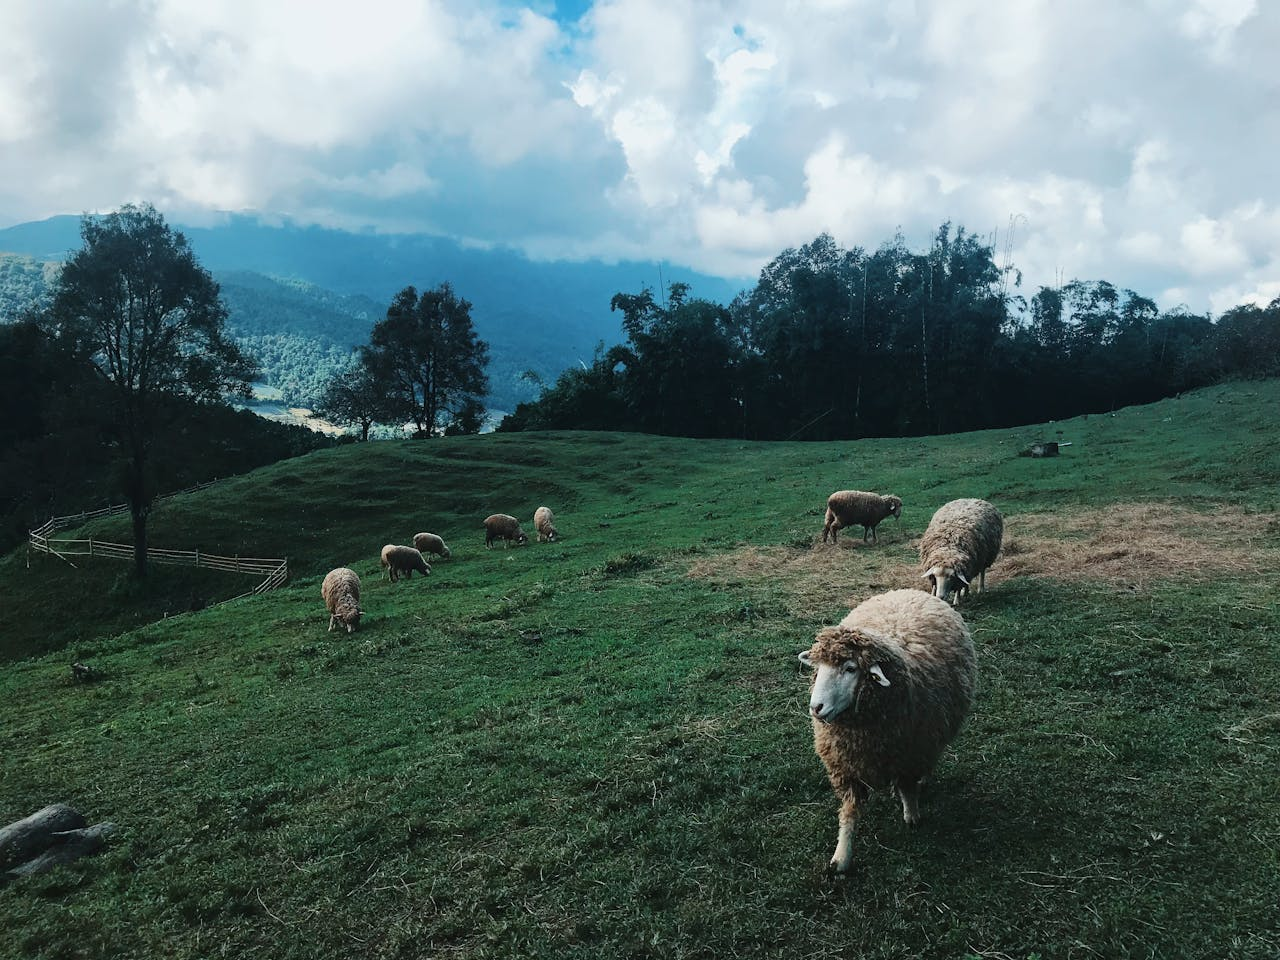sheep: (770, 571, 999, 880), (913, 491, 1011, 606), (809, 473, 919, 554), (308, 559, 376, 640)
